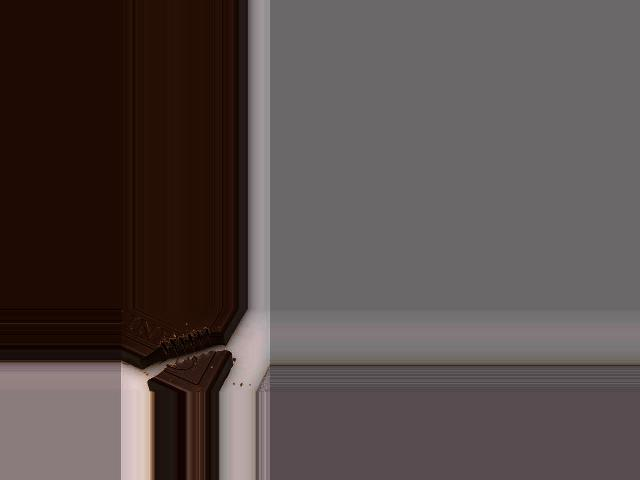chocolate: (121, 310, 248, 392)
